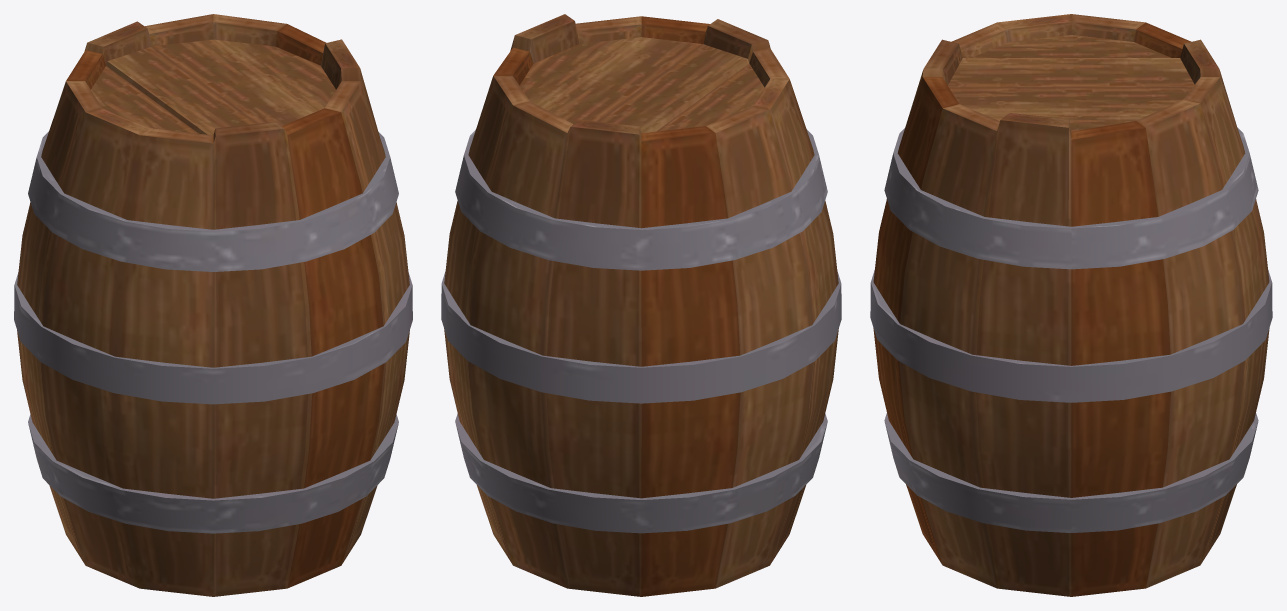
The model's file is Barrel.glb.
3 views of the same model, side by side, from view 1: azimuth 30°, elevation 25°; view 2: azimuth 150°, elevation 25°; view 3: azimuth 270°, elevation 25° (orthographic).
Parts seen in each view (by area): view 1: Barrel; view 2: Barrel; view 3: Barrel.
Boxes of the visible parts, x1,y1,x2,y2 form: Barrel: (14,14,412,596); Barrel: (441,14,841,596); Barrel: (870,14,1272,596).
Bounding box in the file's own units: 0.698 × 0.898 × 0.698.
Materials: 2 (2 with a texture image).
